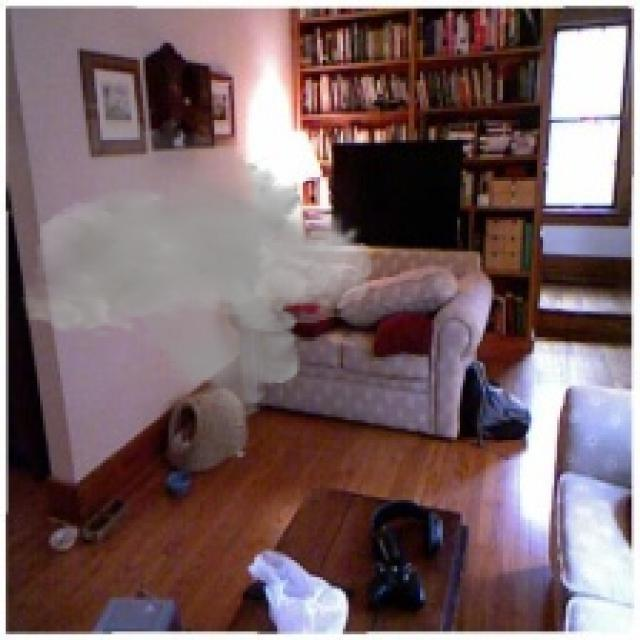Smoke: (19, 77, 374, 429)
